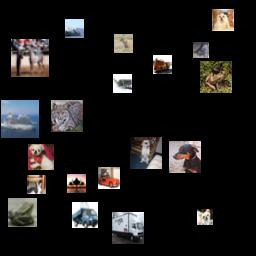airplane: (113, 74, 132, 93), (67, 174, 86, 193)
automobile: (98, 167, 120, 189)
cat: (51, 100, 83, 132), (27, 175, 46, 194), (193, 42, 209, 58)
deer: (114, 34, 133, 53)
dog: (169, 141, 201, 173), (130, 137, 162, 169), (28, 144, 54, 170), (212, 9, 234, 31), (197, 209, 213, 225)
frog: (200, 61, 232, 93), (8, 198, 37, 227)
ship: (1, 100, 39, 138), (65, 19, 84, 38)
truck: (112, 212, 144, 244), (72, 202, 98, 228), (153, 55, 172, 74)
